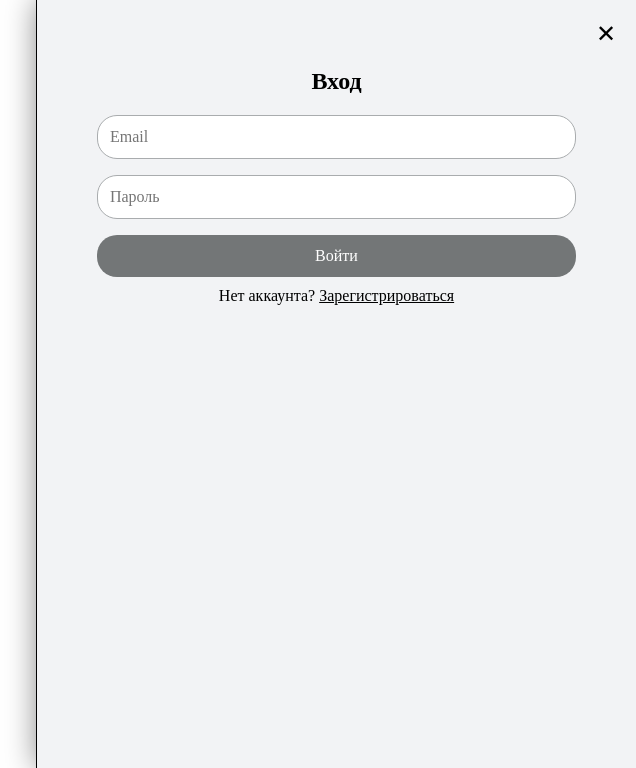
Test: LoginModal › shows validation error for empty password
Type "test@example.com" into the field with placeholder "Email". click: (336, 137)
box: [97, 115, 576, 159]
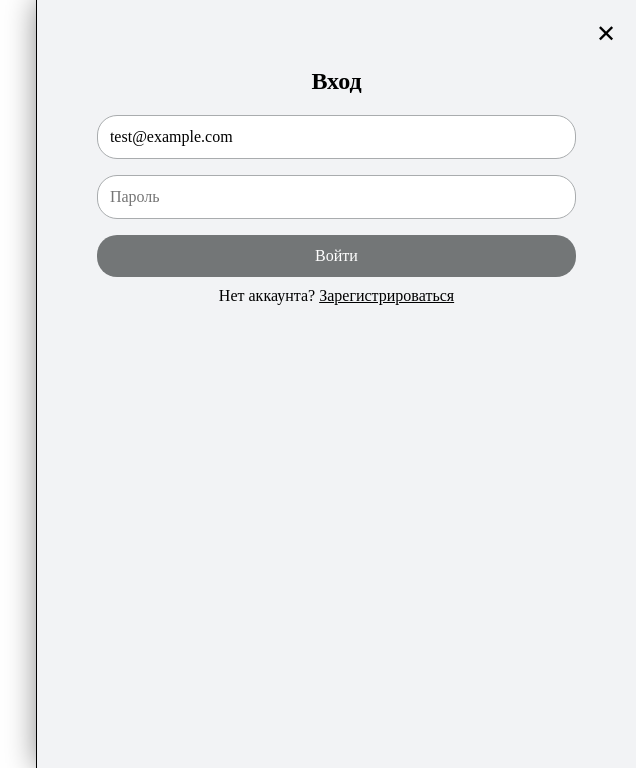
Click the button "Войти". click: (336, 256)
box: [97, 235, 576, 277]
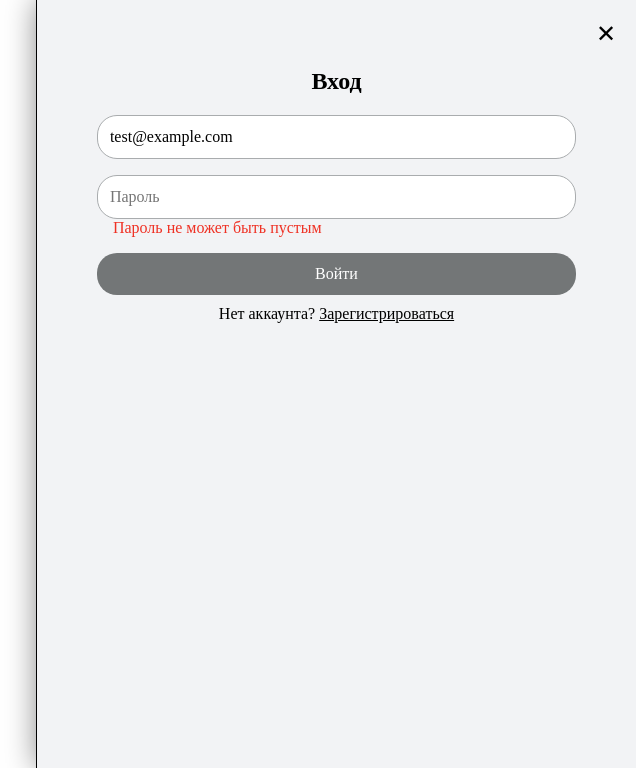
Now the text "Пароль не может быть пустым" is shown, box [113, 219, 322, 236]
